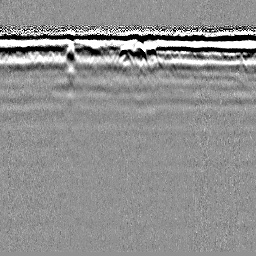cavity: (115, 44, 135, 67)
